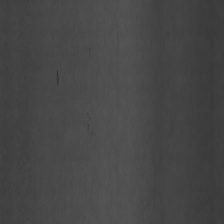oil_spot: (0, 3, 47, 215), (82, 113, 95, 140), (54, 67, 61, 90)
